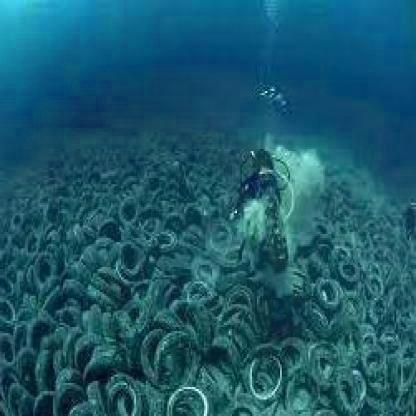tire: (1, 138, 235, 416), (238, 302, 416, 416), (310, 190, 416, 300)
